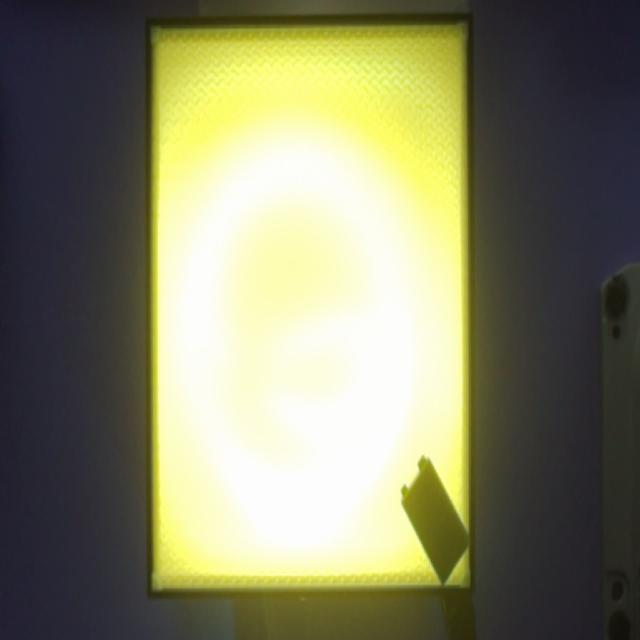bateria: (400, 455, 471, 587)
mesa: (146, 13, 474, 600)
